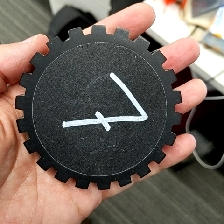gear: (13, 23, 184, 192)
